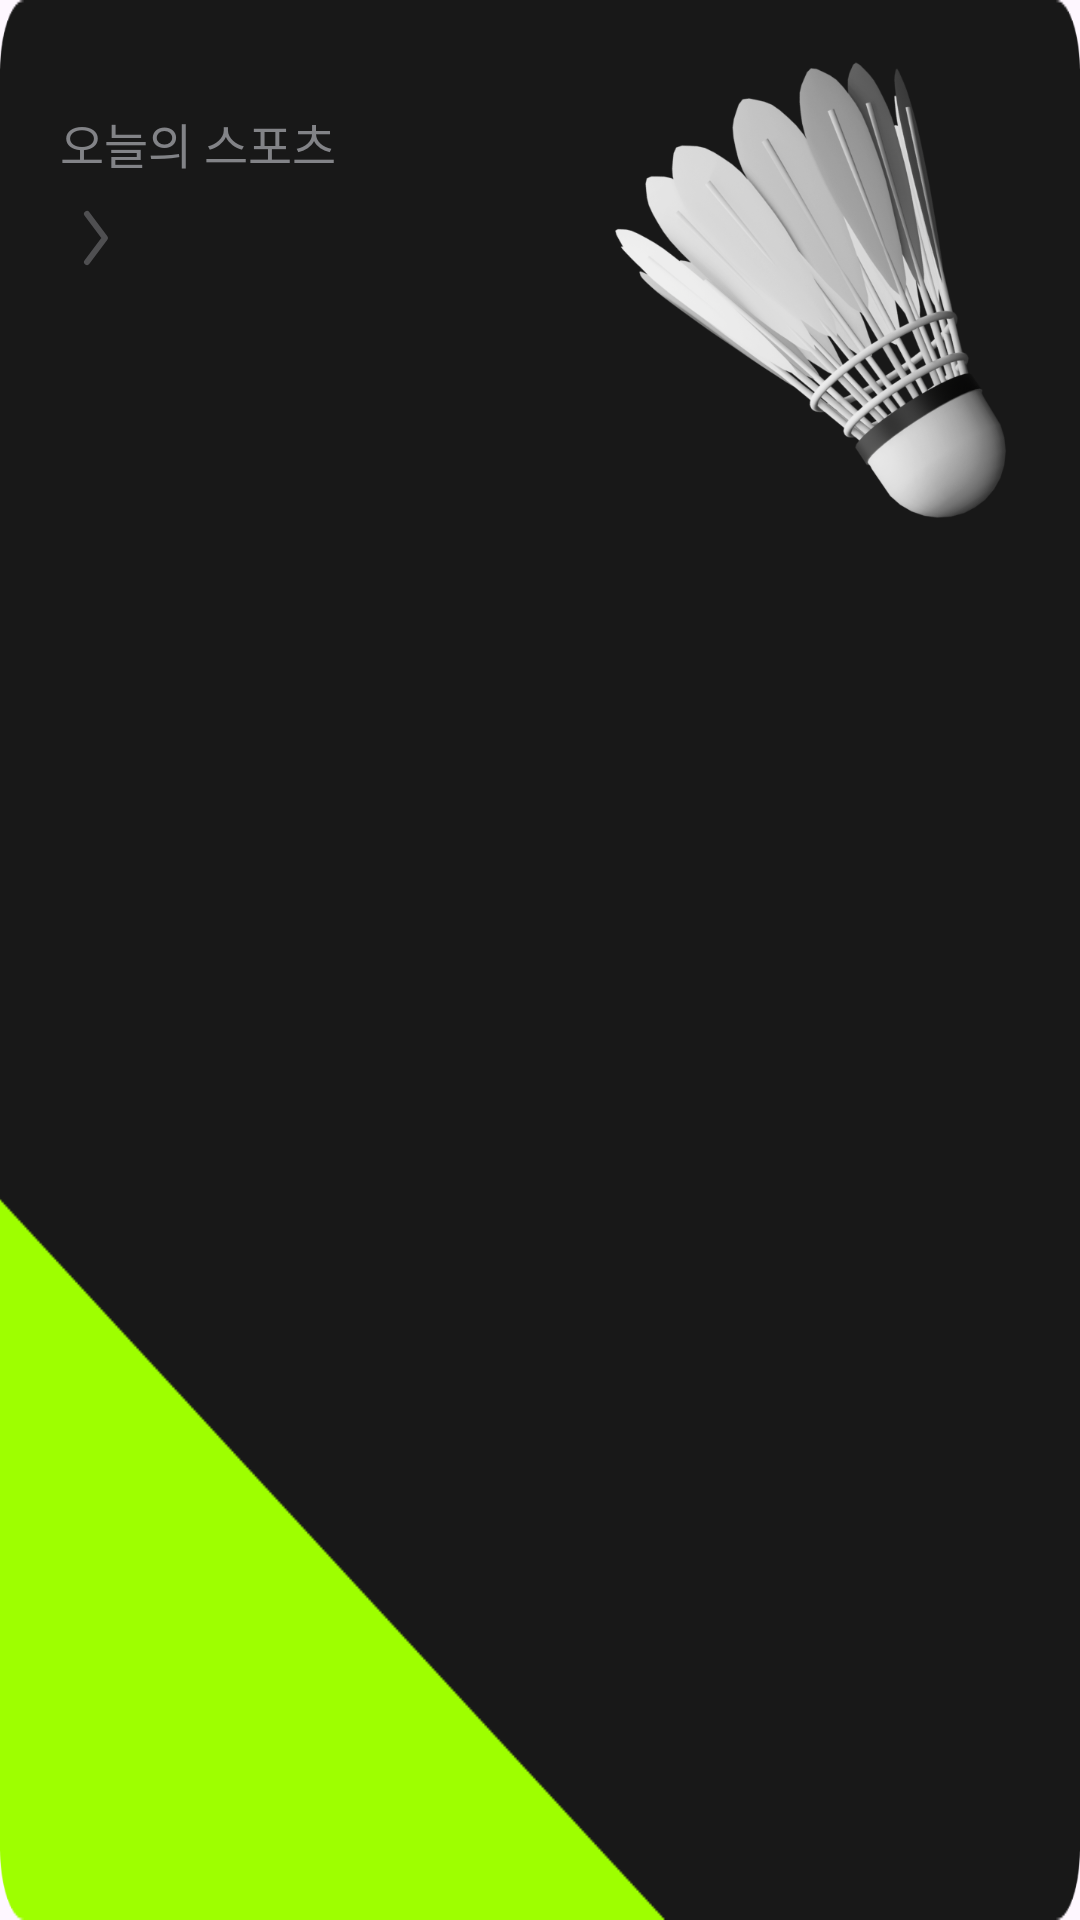

Icons on this 1080px x 1920px Android screen, each with the point to tap as (x=x, y=y):
chevron right: (x=96, y=238)
